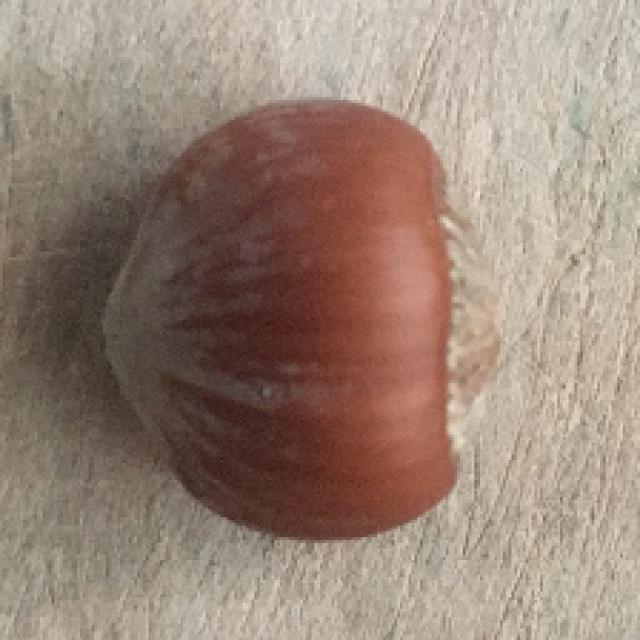qualityHazelnut: (94, 84, 500, 550)
